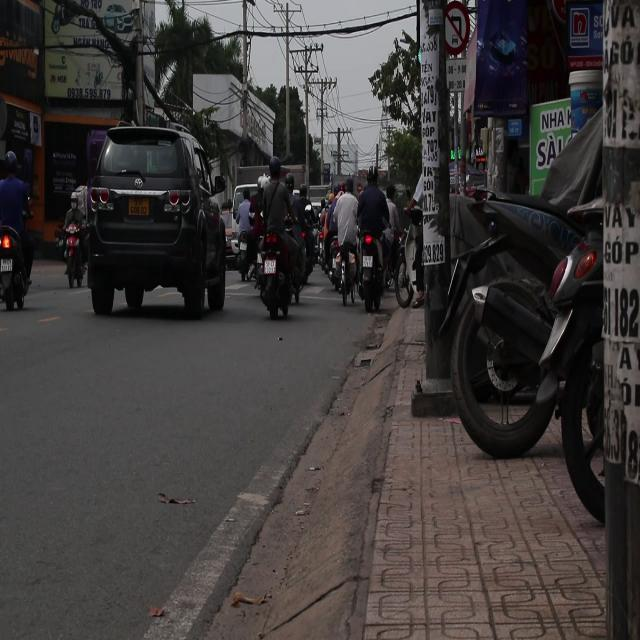car: (84, 125, 229, 318)
motorbike: (351, 232, 398, 328), (254, 227, 301, 321), (0, 216, 33, 310), (55, 216, 90, 289), (231, 206, 255, 296)
